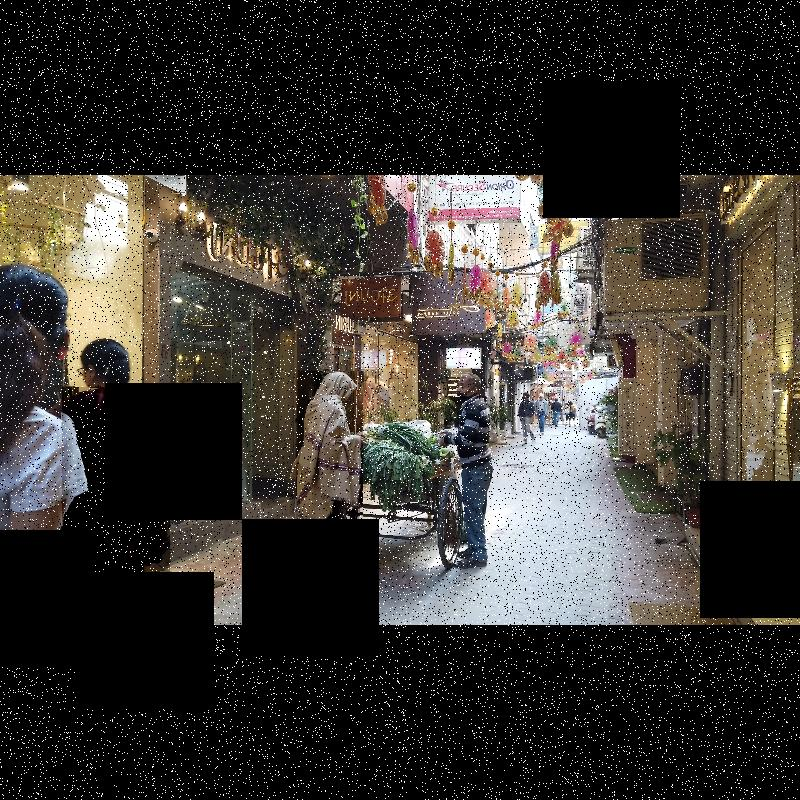Churidaar: (62, 388, 169, 624)
Hijab: (296, 372, 362, 524)
Pant: (303, 504, 343, 586), (465, 464, 491, 550)
Shirt: (441, 397, 496, 462)
